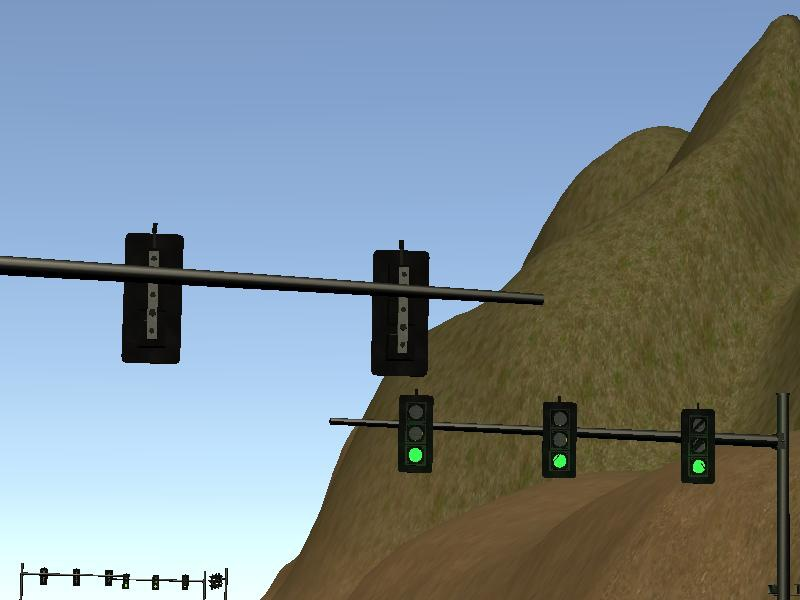Green: (399, 395, 432, 473), (542, 401, 575, 479), (680, 408, 714, 483), (122, 573, 130, 589), (152, 574, 158, 589), (182, 576, 188, 591)
